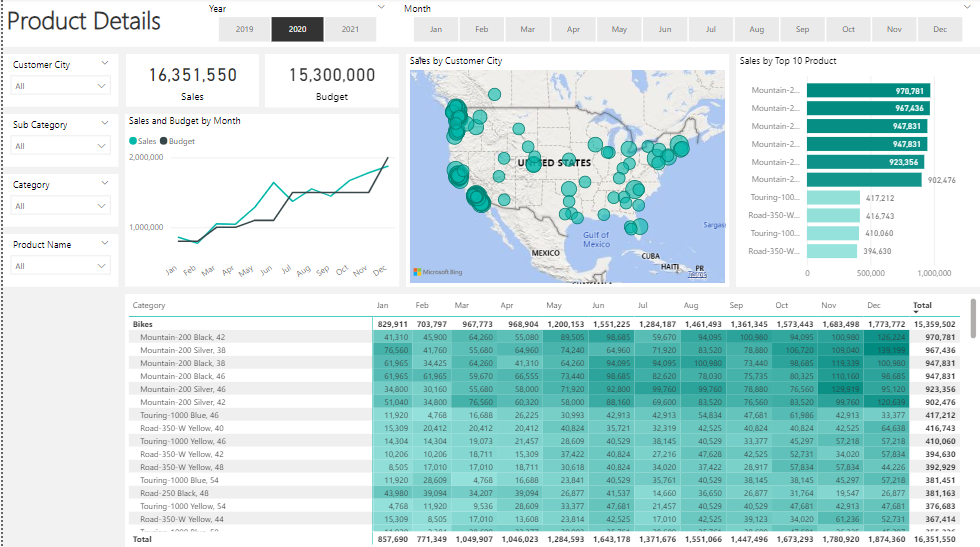

The dashboard page shown, as its layout file describes it:
{"tool":"powerbi","page":{"name":"Product Details","canvas":[1280,720],"ordinal":2},"visuals":[{"type":"textbox","box":[0,0,1280,64],"z":0},{"type":"slicer","fields":{"Values":["DIM_Calendar.Year"]},"box":[256,0,256,64],"z":1000},{"type":"slicer","fields":{"Values":["DIM_Calendar.MonthShort"]},"box":[512,0,768,64],"z":2000},{"type":"slicer","fields":{"Values":["DIM_Customers.Customer City"]},"box":[0,73,150.5,69.3],"z":3000},{"type":"slicer","fields":{"Values":["DIM_Products.Product Category"]},"box":[0,229.9,150.5,69.3],"z":4000},{"type":"slicer","fields":{"Values":["DIM_Products.Product Name"]},"box":[0,308.4,150.5,69.3],"z":5000},{"type":"slicer","fields":{"Values":["DIM_Products.Sub Category"]},"box":[0,151.4,150.5,69.3],"z":6000},{"type":"lineChart","fields":{"Category":["DIM_Calendar.MonthShort"],"Y":["Analysis Metrics.Sales","Analysis Metrics.Budget"]},"box":[159.8,151.8,358.7,226.4],"z":7000},{"type":"card","fields":{"Values":["Analysis Metrics.Sales"]},"box":[160.7,72.8,174,69.2],"z":8000},{"type":"map","fields":{"Category":["DIM_Customers.Customer City"],"Size":["Analysis Metrics.Sales"]},"box":[527.3,72.8,423.5,304.5],"z":9000},{"type":"card","fields":{"Values":["Analysis Metrics.Budget"]},"box":[343.6,72.8,174.9,70.1],"z":10000},{"type":"pivotTable","fields":{"Rows":["DIM_Products.Product Category","DIM_Products.Product Name"],"Columns":["DIM_Calendar.MonthShort"],"Values":["Analysis Metrics.Sales"]},"box":[159.8,387.1,1120.4,332.9],"z":11000},{"type":"clusteredBarChart","title":"Sales by Top 10 Product","fields":{"Category":["DIM_Products.Product Name"],"Y":["Analysis Metrics.Sales"]},"box":[959.7,72.8,320.5,304.5],"z":12000}]}

Visuals, with their boxes in screenshot pixels (x1, y1, x2, y2), scaled from the page's 1280x720 canvas onto the 980x547 screenshot:
textbox: (0, 0, 979, 49)
slicer - DIM_Calendar.Year: (196, 0, 392, 49)
slicer - DIM_Calendar.MonthShort: (392, 0, 979, 49)
slicer - DIM_Customers.Customer City: (0, 55, 115, 108)
slicer - DIM_Products.Product Category: (0, 175, 115, 227)
slicer - DIM_Products.Product Name: (0, 234, 115, 287)
slicer - DIM_Products.Sub Category: (0, 115, 115, 168)
lineChart - DIM_Calendar.MonthShort x Analysis Metrics.Sales: (122, 115, 397, 287)
card - Analysis Metrics.Sales: (123, 55, 256, 108)
map - DIM_Customers.Customer City x Analysis Metrics.Sales: (404, 55, 728, 287)
card - Analysis Metrics.Budget: (263, 55, 397, 109)
pivotTable - DIM_Products.Product Category x DIM_Products.Product Name: (122, 294, 979, 546)
"Sales by Top 10 Product" clusteredBarChart: (735, 55, 979, 287)
